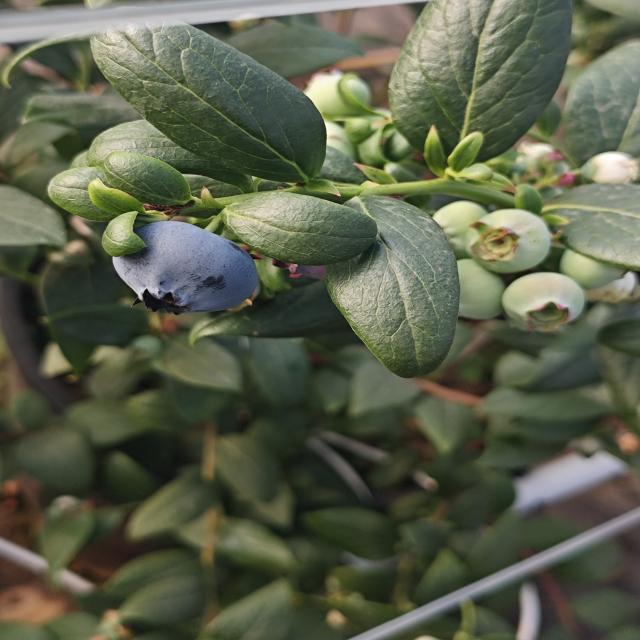ripe: (108, 218, 262, 318)
